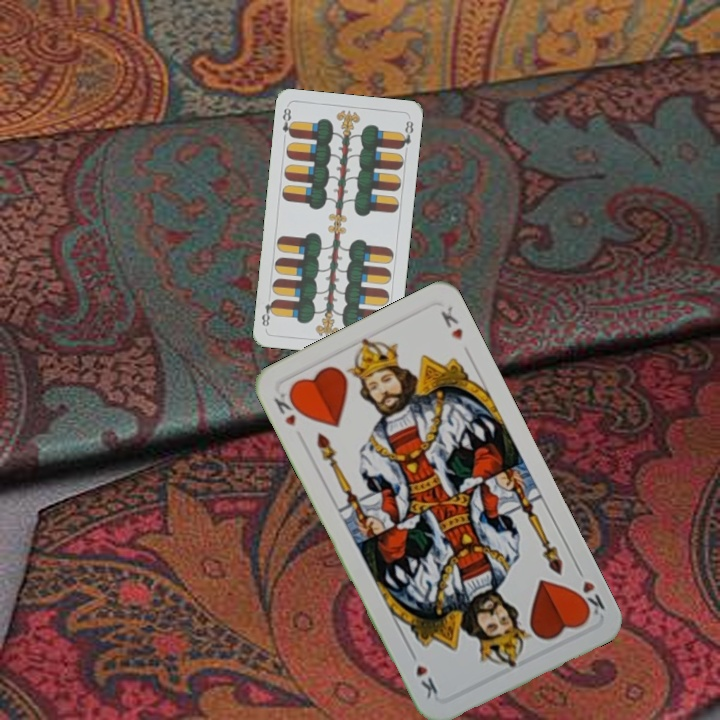E8: (278, 104, 296, 140)
HK: (571, 562, 608, 621), (269, 387, 305, 429)
